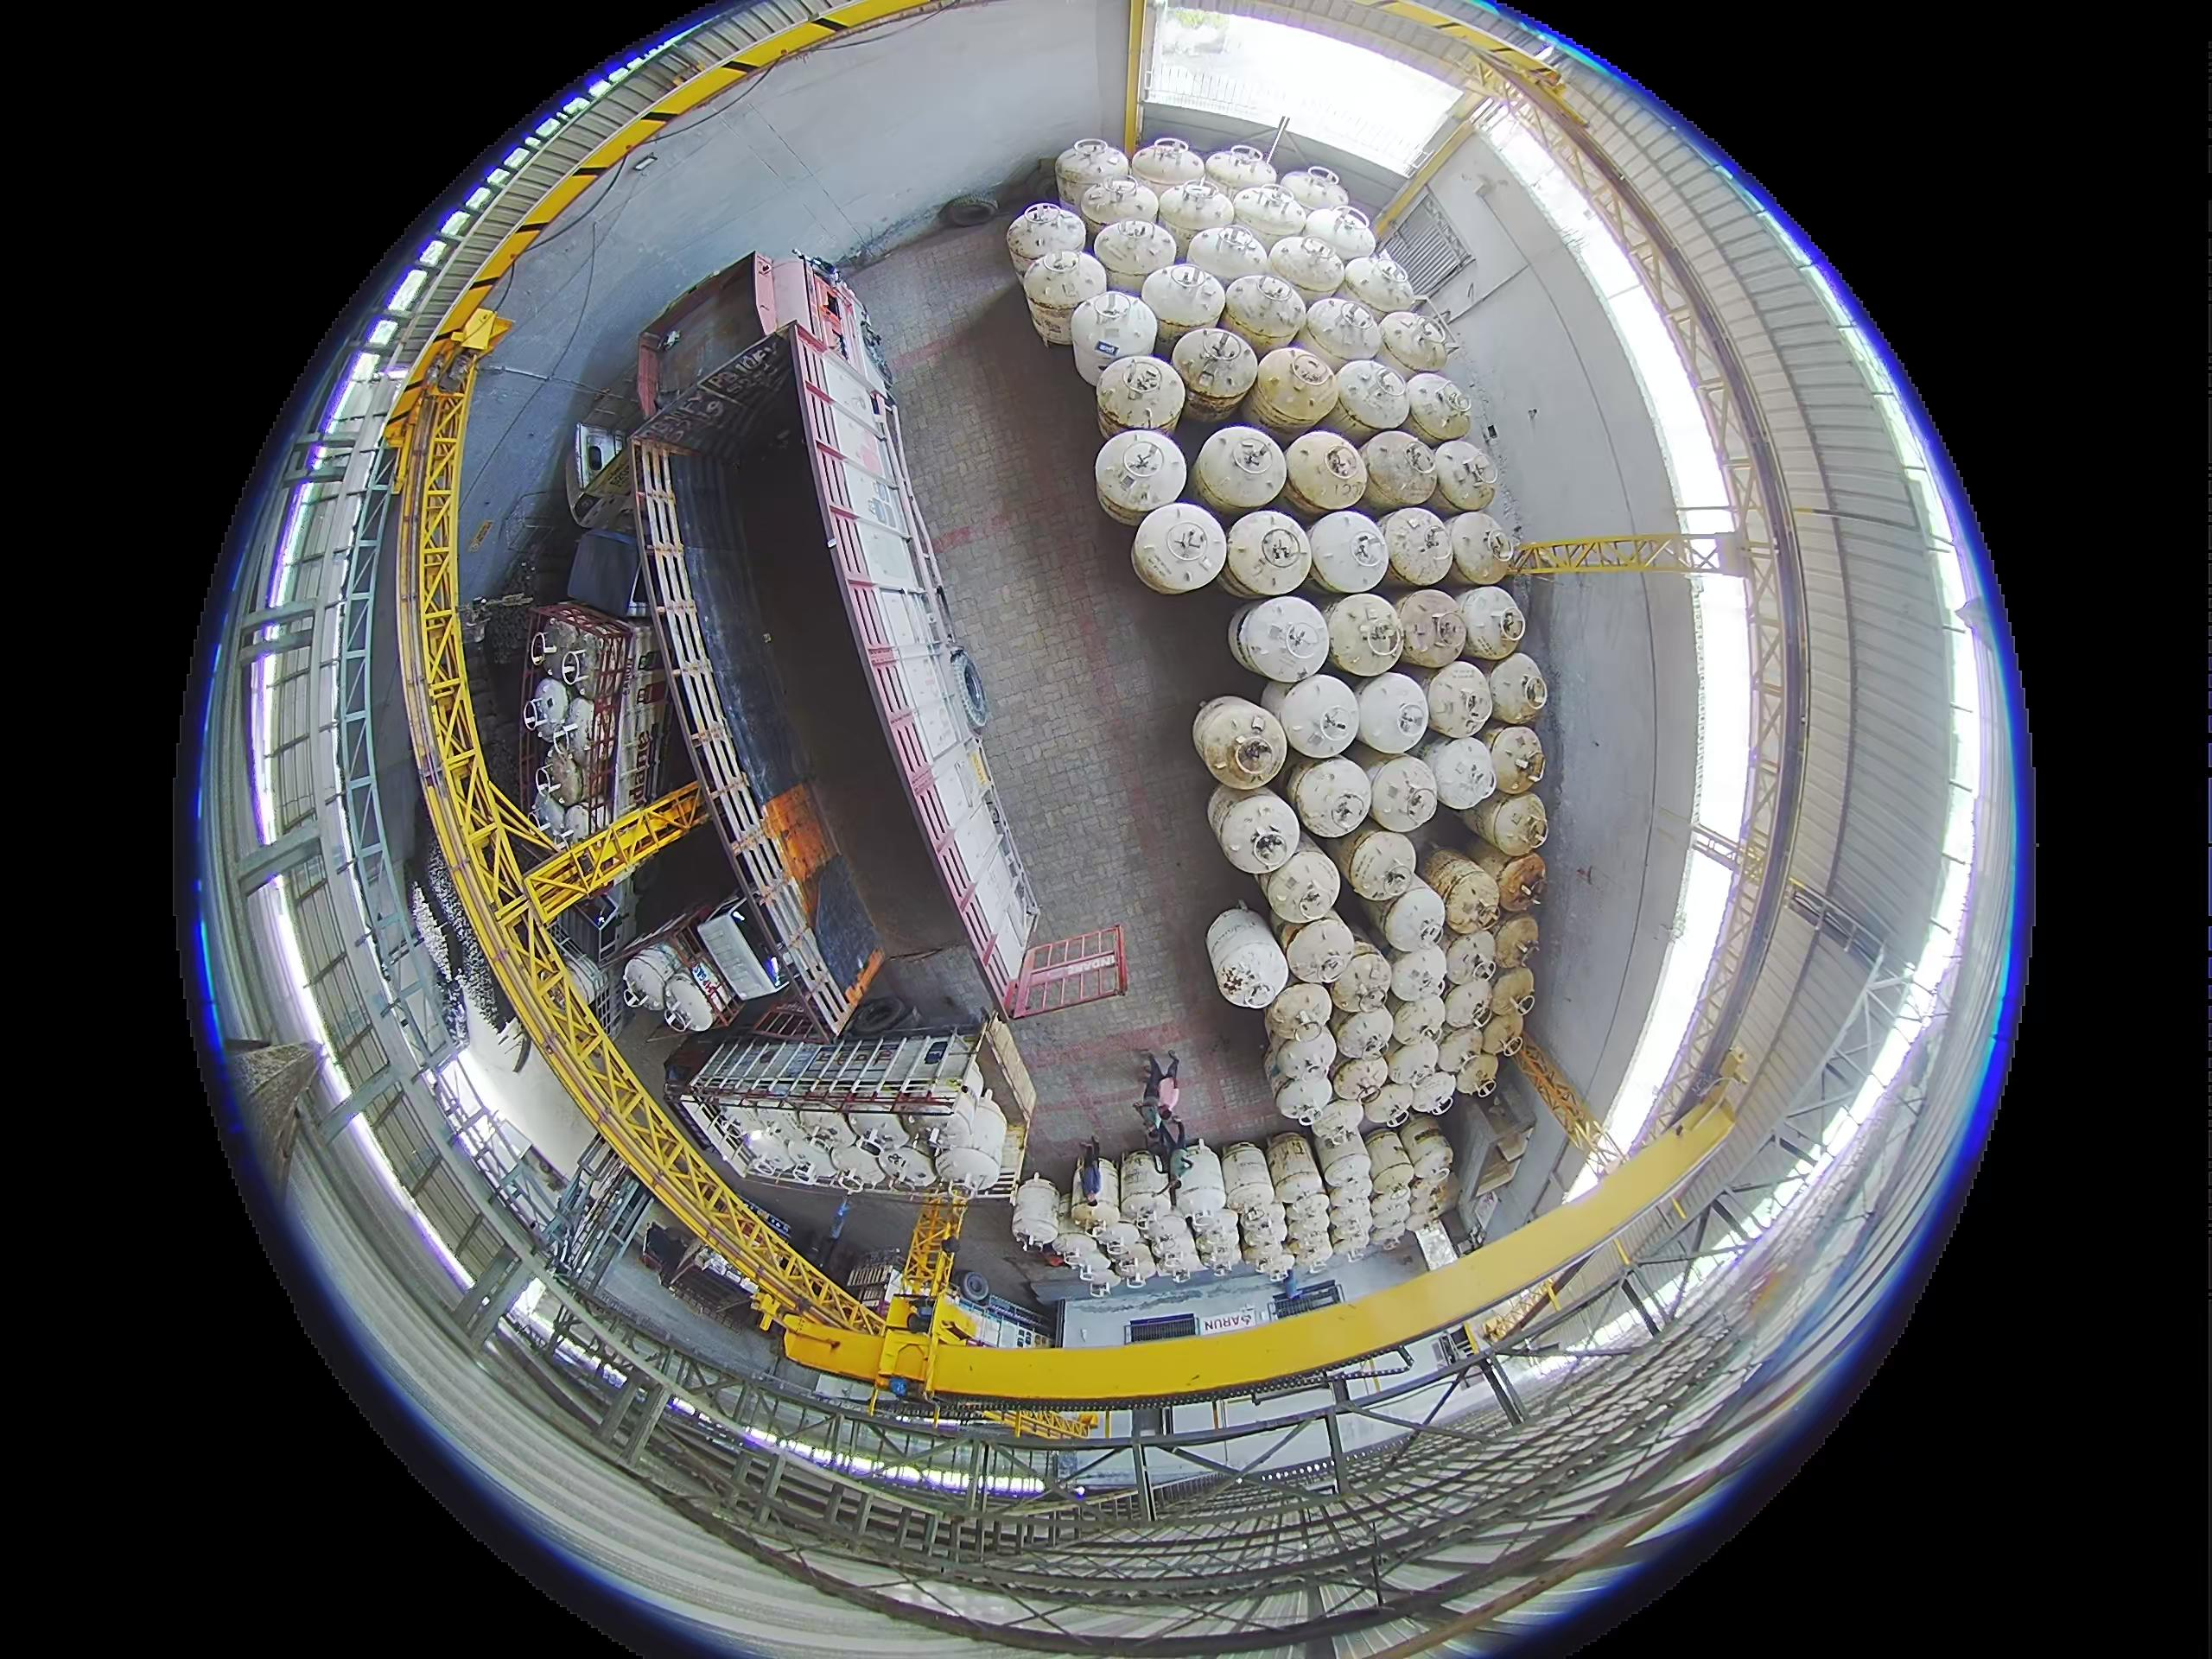cylinder: (1083, 434, 1211, 523), (1130, 502, 1226, 594), (1195, 423, 1287, 516), (1252, 347, 1343, 436), (1224, 509, 1312, 598), (1277, 671, 1364, 760), (1170, 326, 1258, 415), (1014, 249, 1094, 345), (1284, 430, 1369, 518), (1306, 509, 1392, 596), (1141, 261, 1226, 349), (1069, 291, 1150, 382), (1097, 352, 1183, 436), (1221, 272, 1308, 354), (1289, 756, 1372, 840), (1324, 594, 1407, 676), (1362, 429, 1440, 512), (1007, 202, 1087, 282), (1341, 824, 1421, 904), (1353, 671, 1430, 755), (1303, 295, 1385, 371), (1282, 915, 1360, 993), (1423, 734, 1500, 814), (1392, 589, 1468, 667), (1332, 359, 1411, 436), (1364, 755, 1440, 833), (1381, 505, 1456, 586), (1425, 657, 1498, 739), (1188, 221, 1273, 291), (1157, 179, 1235, 254), (1421, 849, 1494, 925), (1094, 218, 1174, 288), (1468, 788, 1548, 857), (1456, 586, 1527, 660), (1379, 878, 1449, 955), (1465, 843, 1541, 913), (1266, 232, 1345, 300), (1055, 138, 1129, 209), (1400, 371, 1470, 446), (1447, 511, 1517, 586), (1378, 310, 1454, 378), (1231, 185, 1310, 251), (1080, 178, 1155, 246), (1341, 253, 1420, 317), (1432, 439, 1500, 512), (1480, 723, 1547, 798), (1482, 652, 1548, 725), (1301, 204, 1378, 267), (1130, 138, 1205, 200), (1327, 946, 1393, 1014), (1386, 946, 1451, 1016), (1205, 143, 1277, 199), (1442, 929, 1501, 995), (1383, 1037, 1442, 1098), (1332, 1009, 1395, 1066), (1278, 166, 1348, 216), (1439, 978, 1496, 1035), (1331, 1054, 1390, 1110), (1484, 965, 1536, 1026), (1308, 1096, 1366, 1150), (1477, 1006, 1531, 1063), (1491, 915, 1541, 972), (1400, 1129, 1453, 1183), (1313, 1129, 1367, 1182), (1433, 1021, 1486, 1075), (709, 1126, 763, 1178), (742, 1126, 796, 1178), (1362, 1080, 1418, 1131), (1325, 1194, 1372, 1251), (1364, 1129, 1414, 1182), (1407, 1070, 1458, 1119), (1474, 1147, 1521, 1199), (1367, 1190, 1413, 1244), (1366, 1161, 1416, 1204), (1456, 1051, 1500, 1098), (1409, 1161, 1453, 1206), (529, 676, 570, 721), (1406, 1182, 1444, 1229)
truck: (620, 246, 1116, 993), (610, 242, 883, 512), (669, 1039, 1052, 1223), (514, 497, 646, 884), (610, 890, 744, 1032), (535, 1138, 657, 1293), (564, 378, 657, 538), (658, 1232, 772, 1331)
